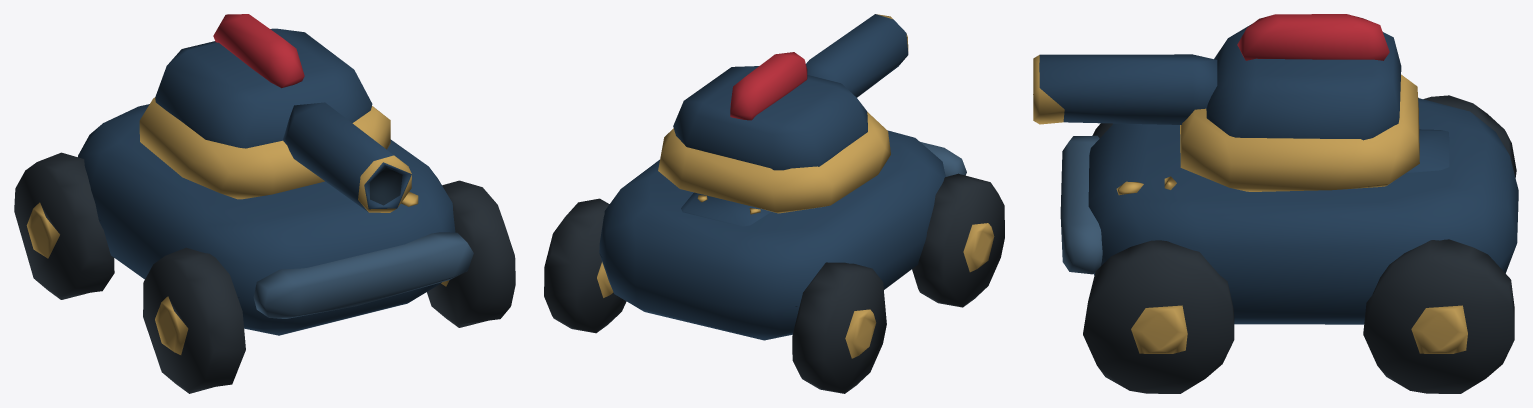
Rendered from TOY_HAZEL.far.glb.
3 views of the same model, side by side, from view 1: azimuth 30°, elevation 25°; view 2: azimuth 150°, elevation 25°; view 3: azimuth 270°, elevation 25° (orthographic). The views are drawn at different scales.
Parts seen in each view (by area): view 1: Body, TurretYaw, WheelsFront, WheelsRear, BarrelRecoil; view 2: Body, TurretYaw, WheelsRear, WheelsFront, BarrelRecoil; view 3: Body, TurretYaw, WheelsRear, WheelsFront, BarrelRecoil.
Part boxes in pixels (bbox=[...]): Body: bbox=[78, 104, 473, 335]; TurretYaw: bbox=[139, 14, 390, 199]; WheelsFront: bbox=[143, 180, 515, 393]; WheelsRear: bbox=[14, 152, 114, 299]; BarrelRecoil: bbox=[283, 102, 411, 212]; Body: bbox=[599, 130, 966, 340]; TurretYaw: bbox=[658, 52, 890, 213]; WheelsRear: bbox=[544, 198, 886, 393]; WheelsFront: bbox=[912, 173, 1004, 307]; BarrelRecoil: bbox=[806, 14, 908, 97]; Body: bbox=[1060, 98, 1518, 324]; TurretYaw: bbox=[1180, 14, 1419, 191]; WheelsRear: bbox=[1363, 95, 1516, 393]; WheelsFront: bbox=[1083, 123, 1234, 393]; BarrelRecoil: bbox=[1033, 54, 1217, 124].
Bounding box in the file's own units: 0.7443 × 0.6002 × 0.8835.
